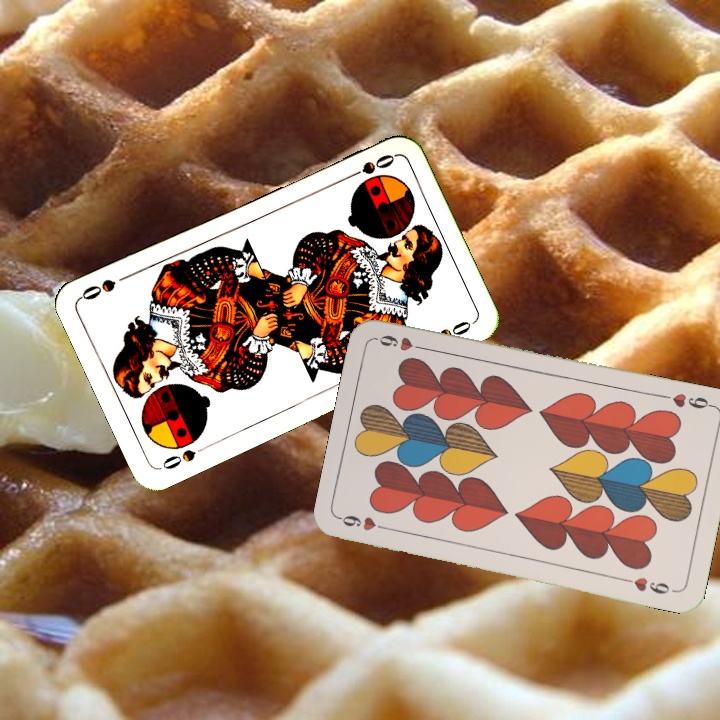H9: (658, 389, 716, 412), (337, 511, 395, 534)
SO: (341, 150, 397, 183), (156, 440, 212, 472)
